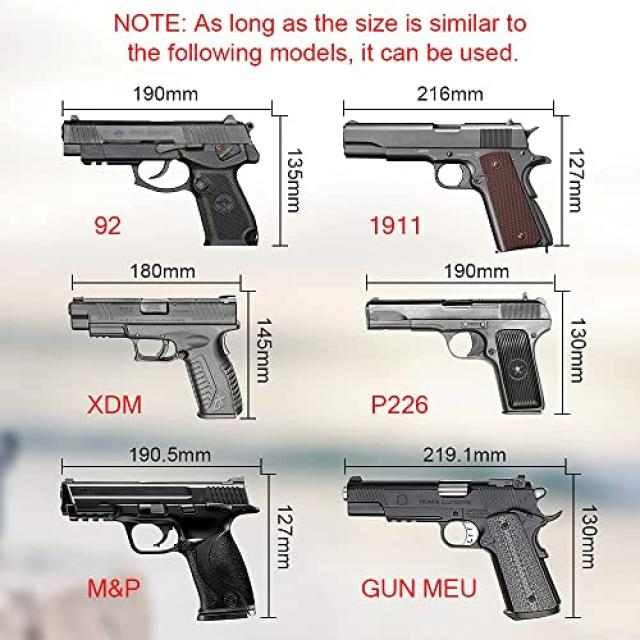HandGun: (344, 477, 562, 622), (60, 480, 257, 623), (342, 122, 554, 253), (60, 120, 261, 248), (68, 296, 243, 421), (365, 300, 552, 416)
